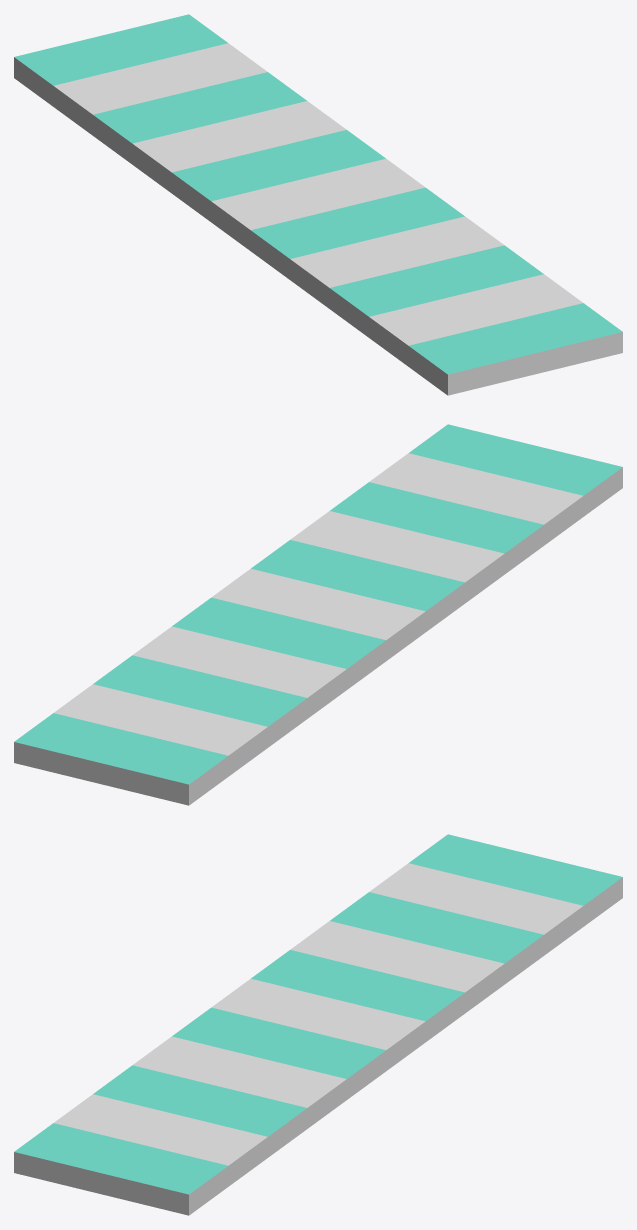
3 views of the same model, one above another, from view 1: azimuth 30°, elevation 25°; view 2: azimuth 150°, elevation 25°; view 3: azimuth 330°, elevation 25° (orthographic).
Visible parts, largest first — view 1: F_2; view 2: F_2; view 3: F_2.
Part boxes in pixels (x1,y1,x2,y2): F_2: (14, 14, 622, 395); F_2: (14, 424, 622, 805); F_2: (14, 834, 622, 1215).
Bounding box in the file's own units: 1078 × 124 × 4629.
